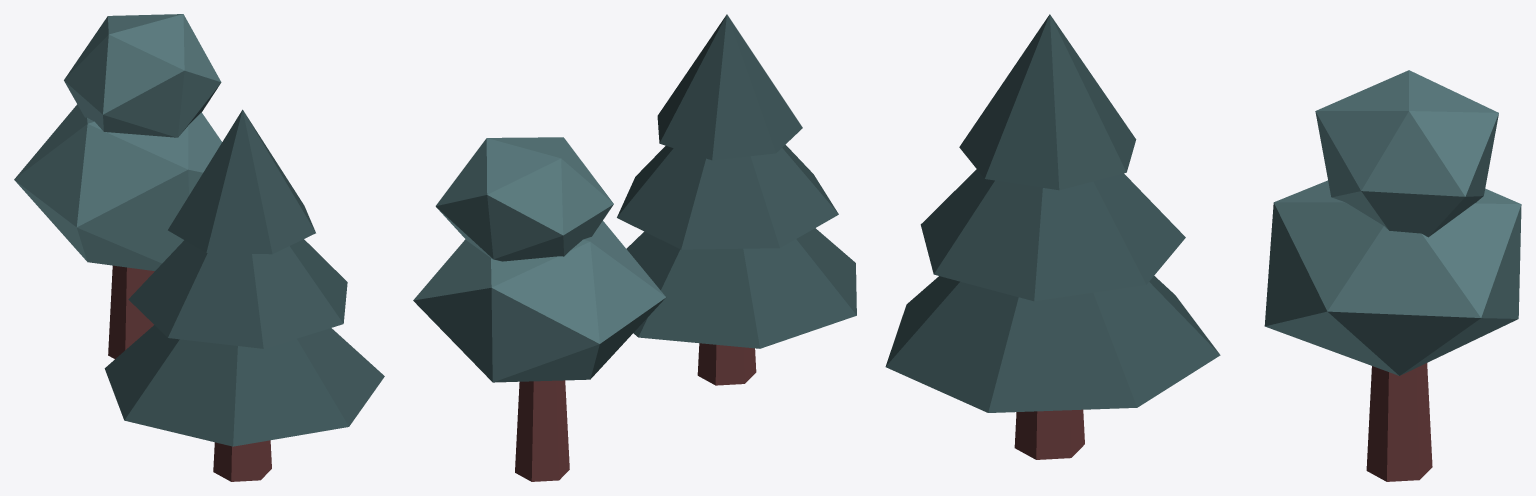
The model's file is grove2.glb.
3 renders of one model, left to right at view 1: azimuth 30°, elevation 25°; view 2: azimuth 150°, elevation 25°; view 3: azimuth 270°, elevation 25°, orthographic. The views are drawn at different scales.
Parts seen in each view (by area): view 1: grove2; view 2: grove2; view 3: grove2.
Part boxes in pixels (x1,y1,x2,y2): grove2: (14,14,384,481); grove2: (413,14,856,481); grove2: (885,14,1521,481).
Size of the model in its own units: 0.6456 by 0.86 by 1.15.
